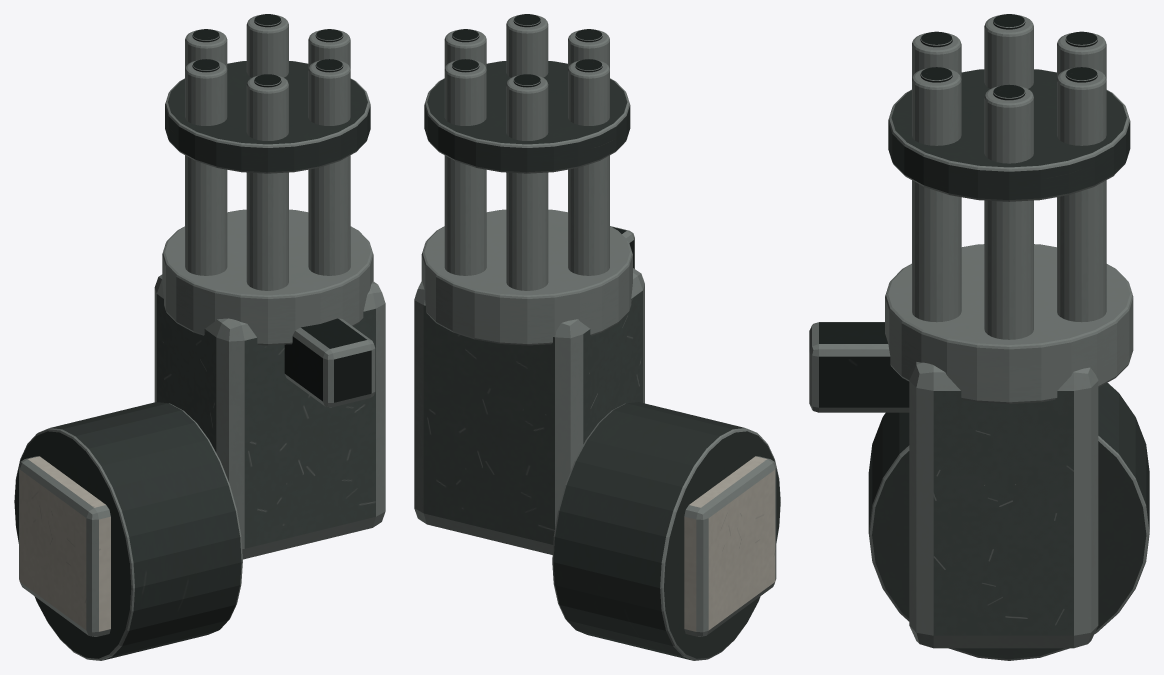
Rendered from rotary-t2.glb.
3 renders of one model, left to right at view 1: azimuth 30°, elevation 25°; view 2: azimuth 150°, elevation 25°; view 3: azimuth 270°, elevation 25°, orthographic. The views are drawn at different scales.
Parts seen in each view (by area): view 1: Rotary receiver, Ammunition drum, Rotating barrel carrier, Feed drum casing, Barrel front clamp, Rotary steel barrel 4, Rotary steel barrel 5, Rotary steel barrel 3, Support foregrip, Rotary steel barrel 1, Rotary steel barrel 2, Rotary steel barrel 0; view 2: Rotary receiver, Ammunition drum, Rotating barrel carrier, Feed drum casing, Barrel front clamp, Rotary steel barrel 2, Rotary steel barrel 1, Rotary steel barrel 3, Rotary steel barrel 5, Rotary steel barrel 0, Rotary steel barrel 4; view 3: Rotary receiver, Rotating barrel carrier, Ammunition drum, Barrel front clamp, Rotary steel barrel 0, Rotary steel barrel 1, Rotary steel barrel 5, Support foregrip, Rotary steel barrel 3, Rotary steel barrel 2, Rotary steel barrel 4.
Part boxes in pixels (box(x1,y1,x2,y2)): Rotary receiver: box(154, 274, 385, 559); Ammunition drum: box(14, 402, 242, 660); Rotating barrel carrier: box(162, 209, 373, 345); Feed drum casing: box(19, 456, 110, 636); Barrel front clamp: box(165, 61, 370, 173); Rotary steel barrel 4: box(246, 75, 288, 290); Rotary steel barrel 5: box(308, 60, 350, 275); Rotary steel barrel 3: box(185, 60, 227, 275); Support foregrip: box(284, 318, 375, 407); Rotary steel barrel 1: box(246, 15, 288, 77); Rotary steel barrel 2: box(185, 30, 227, 69); Rotary steel barrel 0: box(308, 30, 350, 68); Rotary receiver: box(414, 268, 644, 554); Ammunition drum: box(552, 402, 780, 660); Rotating barrel carrier: box(421, 209, 632, 345); Feed drum casing: box(684, 456, 776, 636); Barrel front clamp: box(424, 61, 630, 173); Rotary steel barrel 2: box(506, 75, 548, 290); Rotary steel barrel 1: box(444, 60, 486, 275); Rotary steel barrel 3: box(568, 60, 609, 275); Rotary steel barrel 5: box(506, 15, 548, 77); Rotary steel barrel 0: box(444, 30, 486, 68); Rotary steel barrel 4: box(568, 30, 609, 68); Rotary receiver: box(909, 362, 1098, 648); Rotating barrel carrier: box(885, 244, 1133, 403); Ammunition drum: box(868, 382, 1149, 660); Barrel front clamp: box(888, 69, 1130, 201); Rotary steel barrel 0: box(984, 86, 1033, 339); Rotary steel barrel 1: box(1057, 68, 1106, 322); Rotary steel barrel 5: box(912, 68, 961, 322); Support foregrip: box(809, 322, 909, 412); Rotary steel barrel 3: box(984, 15, 1033, 88); Rotary steel barrel 2: box(1057, 33, 1106, 78); Rotary steel barrel 4: box(912, 33, 961, 78).
Bounding box in the file's own units: 0.77 × 1.34 × 0.63.
5 materials, 5 textured.
